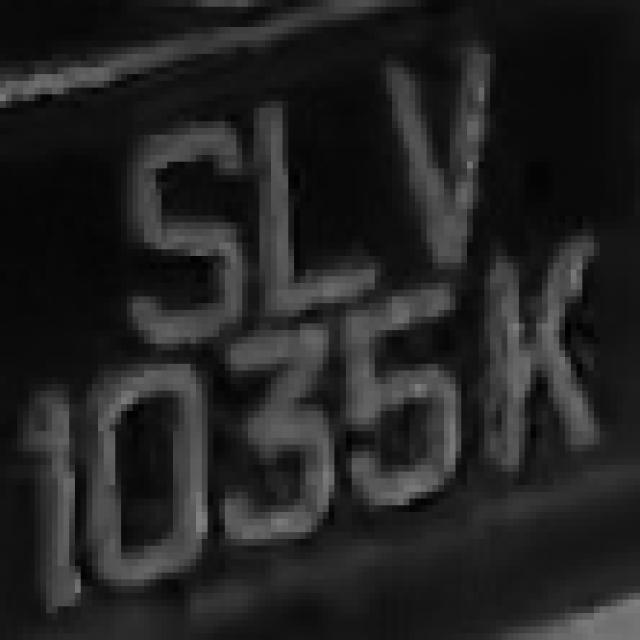0: (86, 357, 230, 606)
1: (23, 377, 98, 627)
3: (208, 283, 334, 566)
5: (323, 290, 478, 539)
K: (490, 216, 611, 485)
L: (248, 121, 398, 330)
S: (121, 121, 248, 364)
V: (369, 47, 513, 270)
